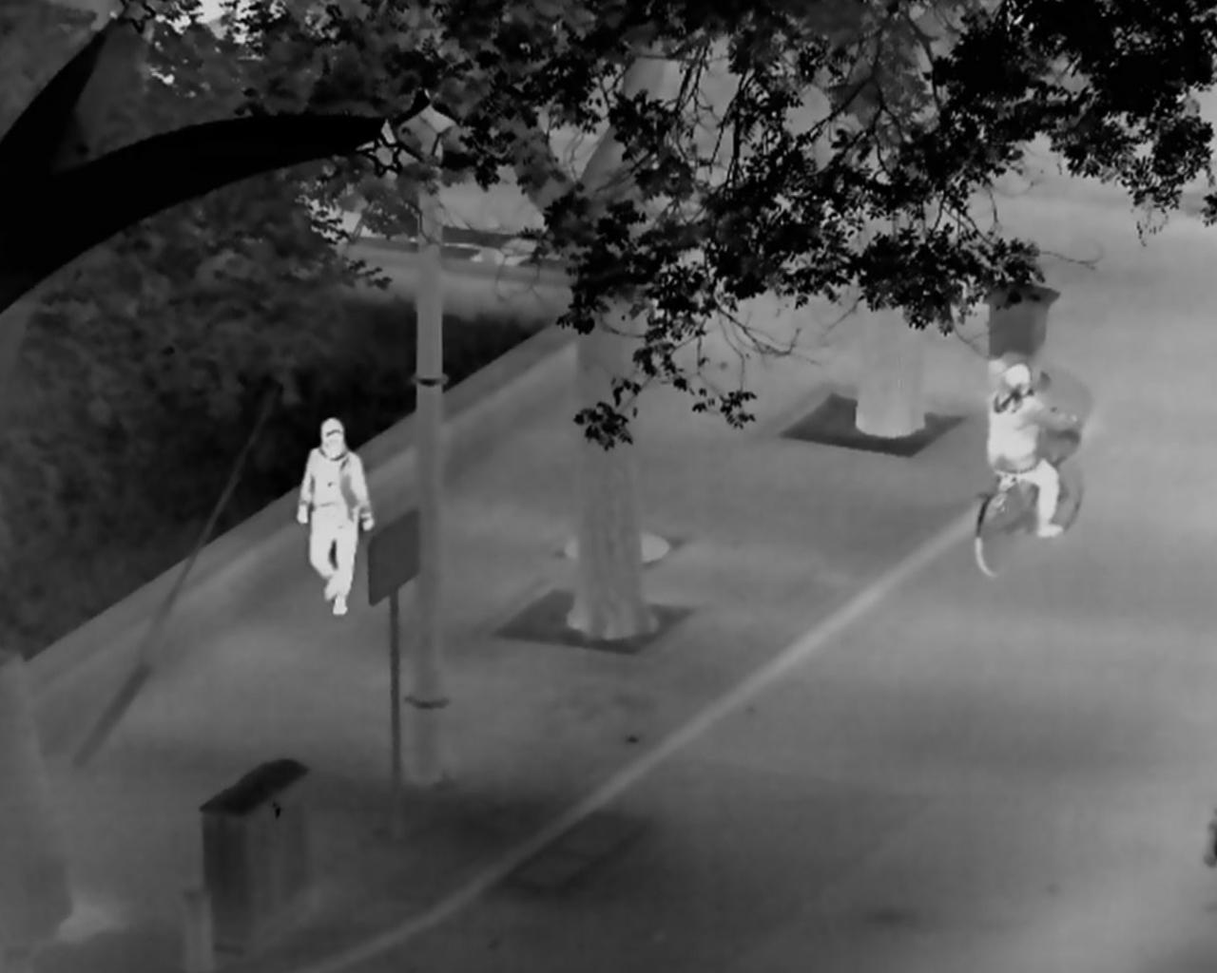person: (986, 361, 1078, 541), (297, 417, 376, 615)
